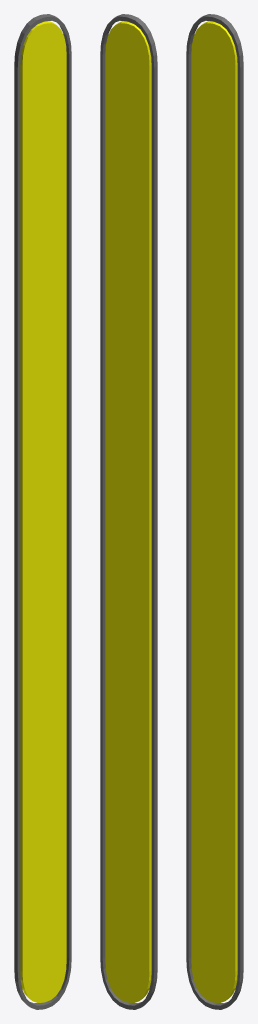
File: Blade.obj
3 views of the same model, side by side, from view 1: azimuth 30°, elevation 25°; view 2: azimuth 150°, elevation 25°; view 3: azimuth 330°, elevation 25° (orthographic).
Visible parts, largest first — view 1: Support, Chain; view 2: Support, Chain; view 3: Support, Chain.
Boxes of the visible parts, bbox=[...] form: Support: bbox=[20, 21, 66, 1002]; Chain: bbox=[14, 14, 71, 1009]; Support: bbox=[105, 21, 151, 1002]; Chain: bbox=[100, 14, 157, 1009]; Support: bbox=[191, 21, 237, 1002]; Chain: bbox=[186, 14, 243, 1009].
Bounding box in the file's own units: 0.0977 × 1.72 × 0.011.
